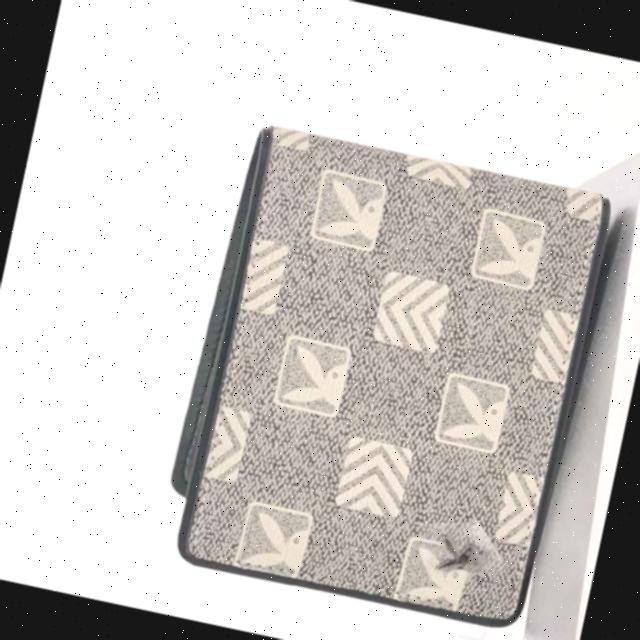Handbag: (162, 110, 612, 635)
